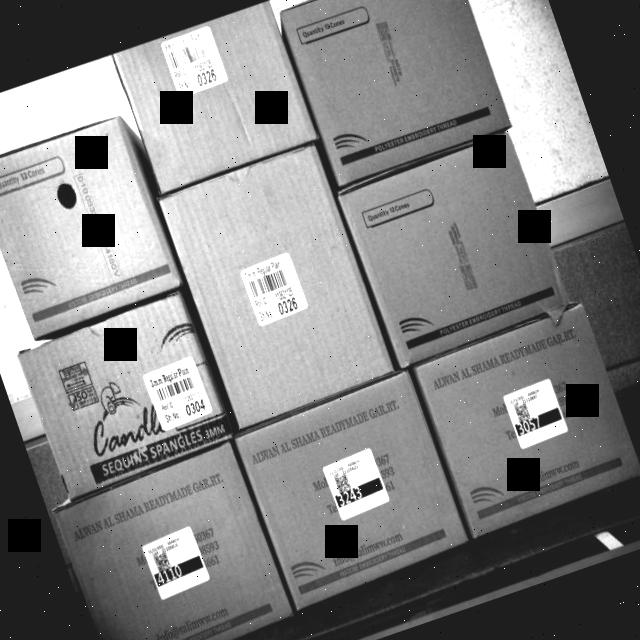box: (154, 136, 400, 428), (230, 370, 468, 604), (337, 132, 570, 366), (411, 301, 640, 538), (47, 446, 293, 640), (16, 290, 236, 496), (282, 0, 515, 186), (0, 108, 183, 339), (112, 0, 319, 199)
